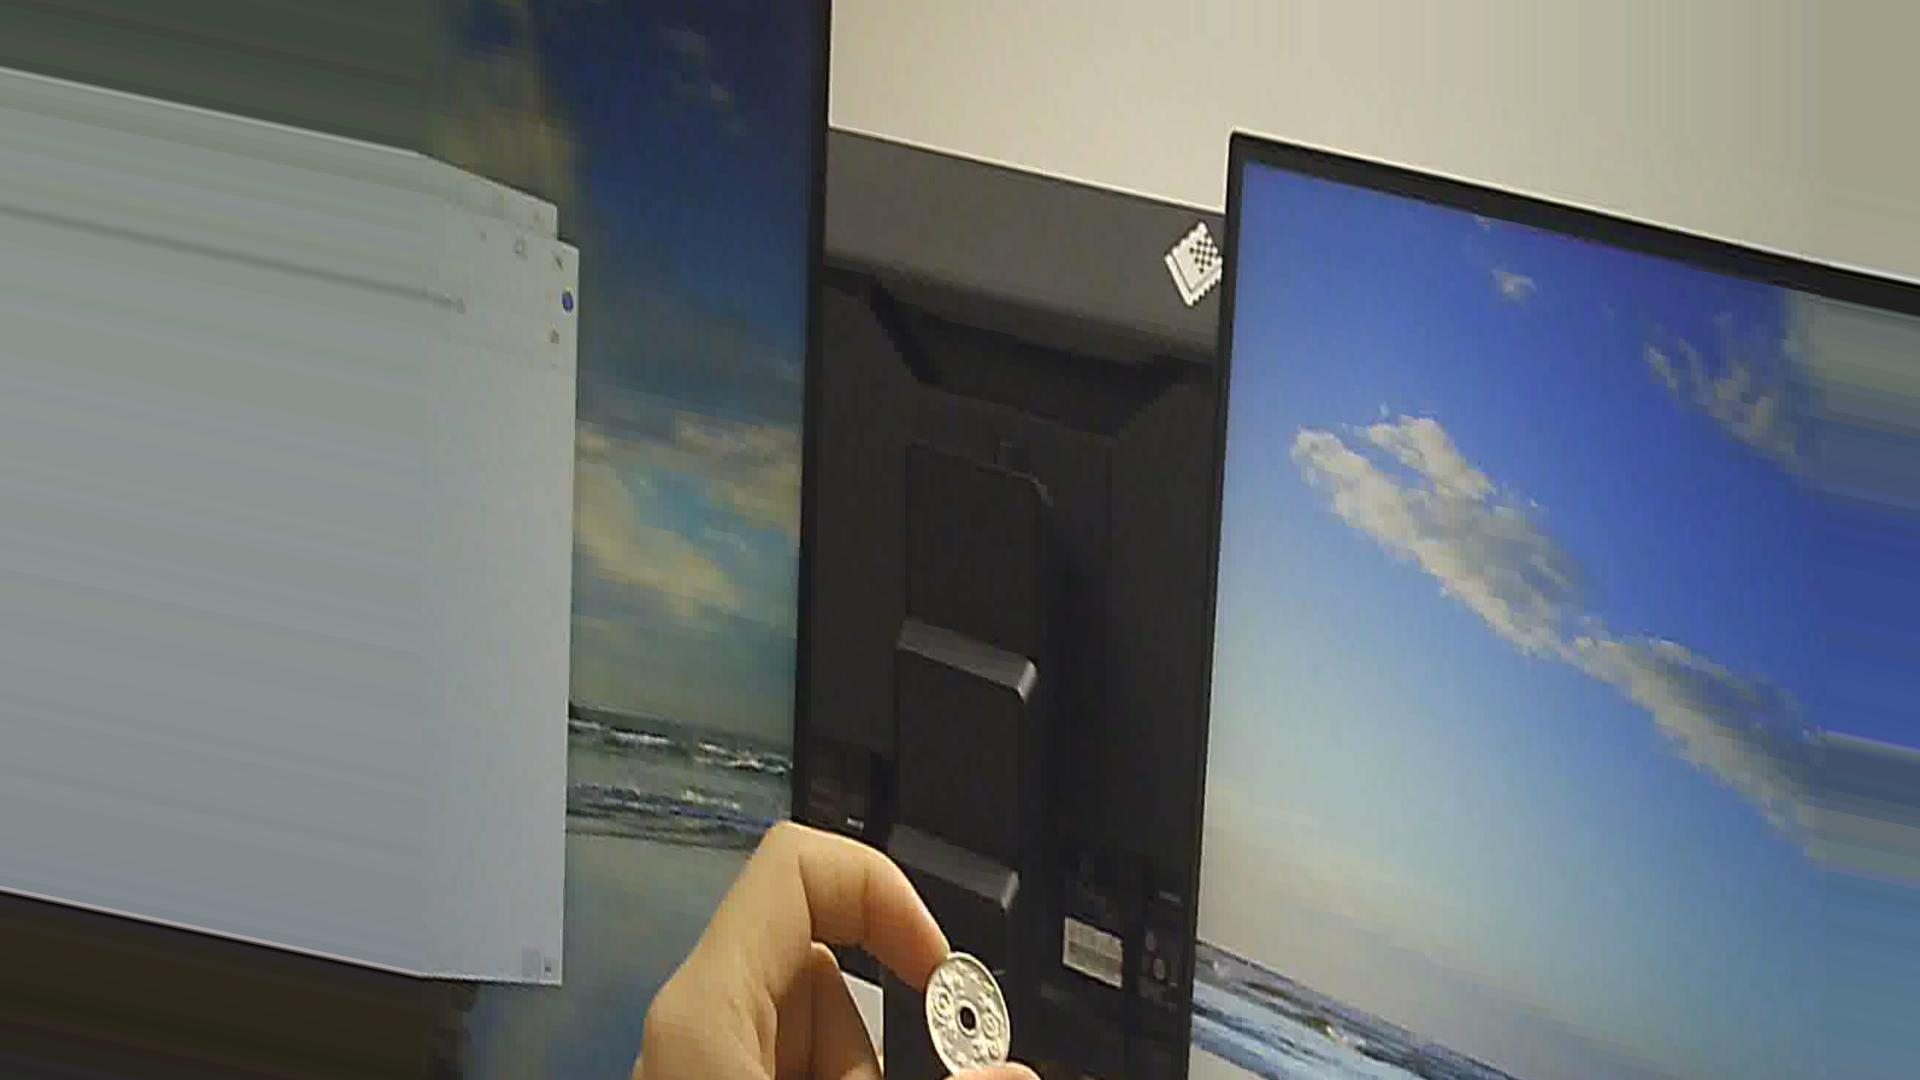50 Yen: (915, 948, 1013, 1072)
